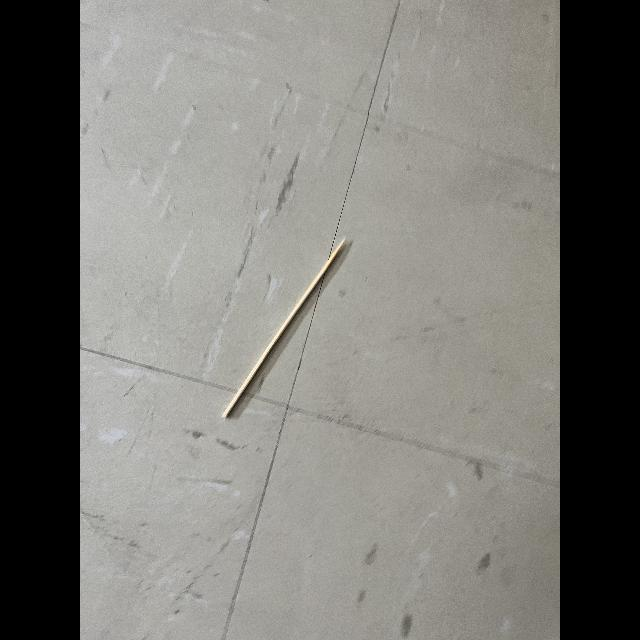stick: (210, 231, 364, 433)
